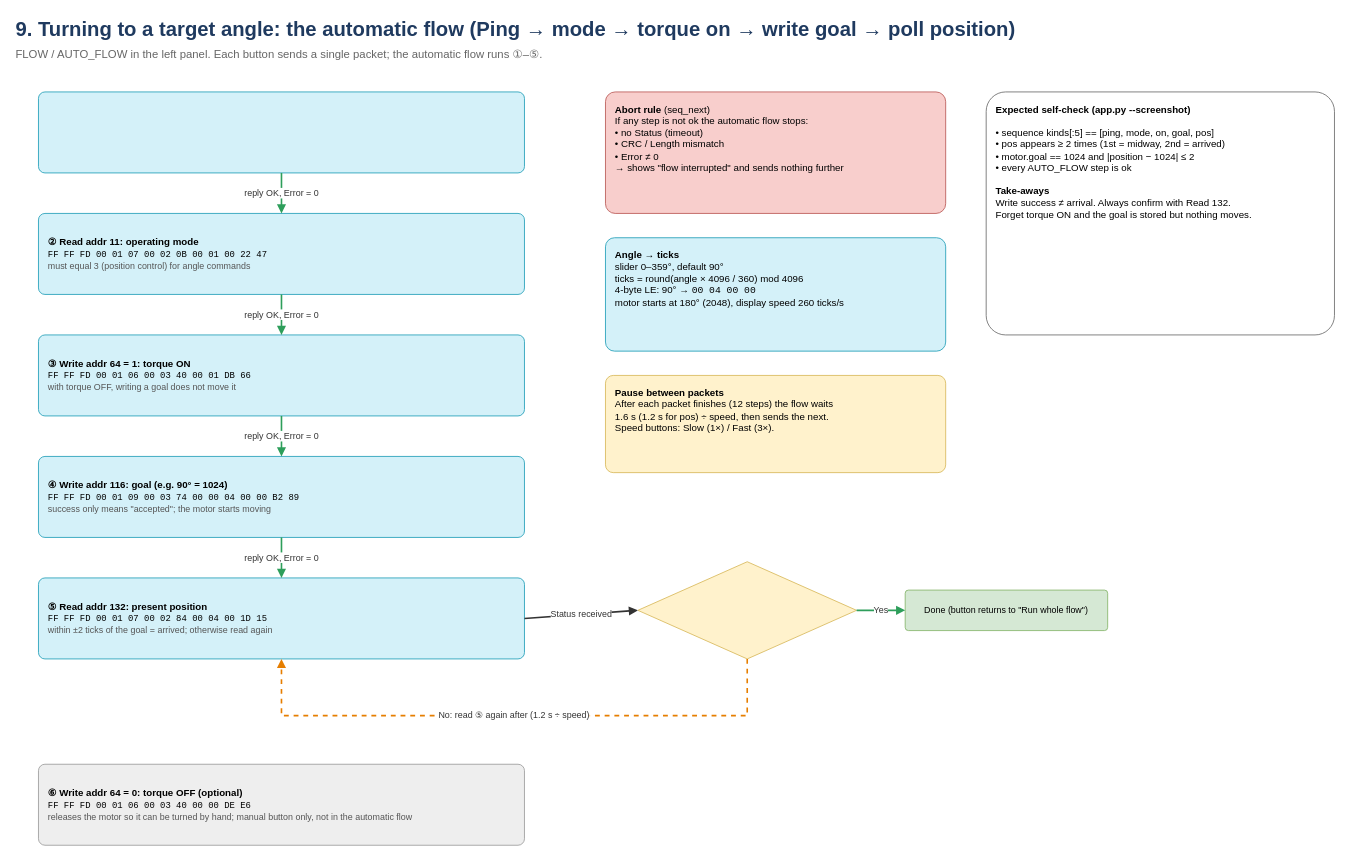
Some shapes in this 1356 by 859 pixel diagram are drawn without their labels. The shapes that lost their labels are listed below. From the top down, each one's centre as x and y in pixels, then its label:
At (x=281, y=132): "① Ping FF FF FD 00 01 03 00 01 19 4E Is ID 1 there?".
At (x=747, y=610): "|position − goal| ≤ 2 or 8 polls done?".
